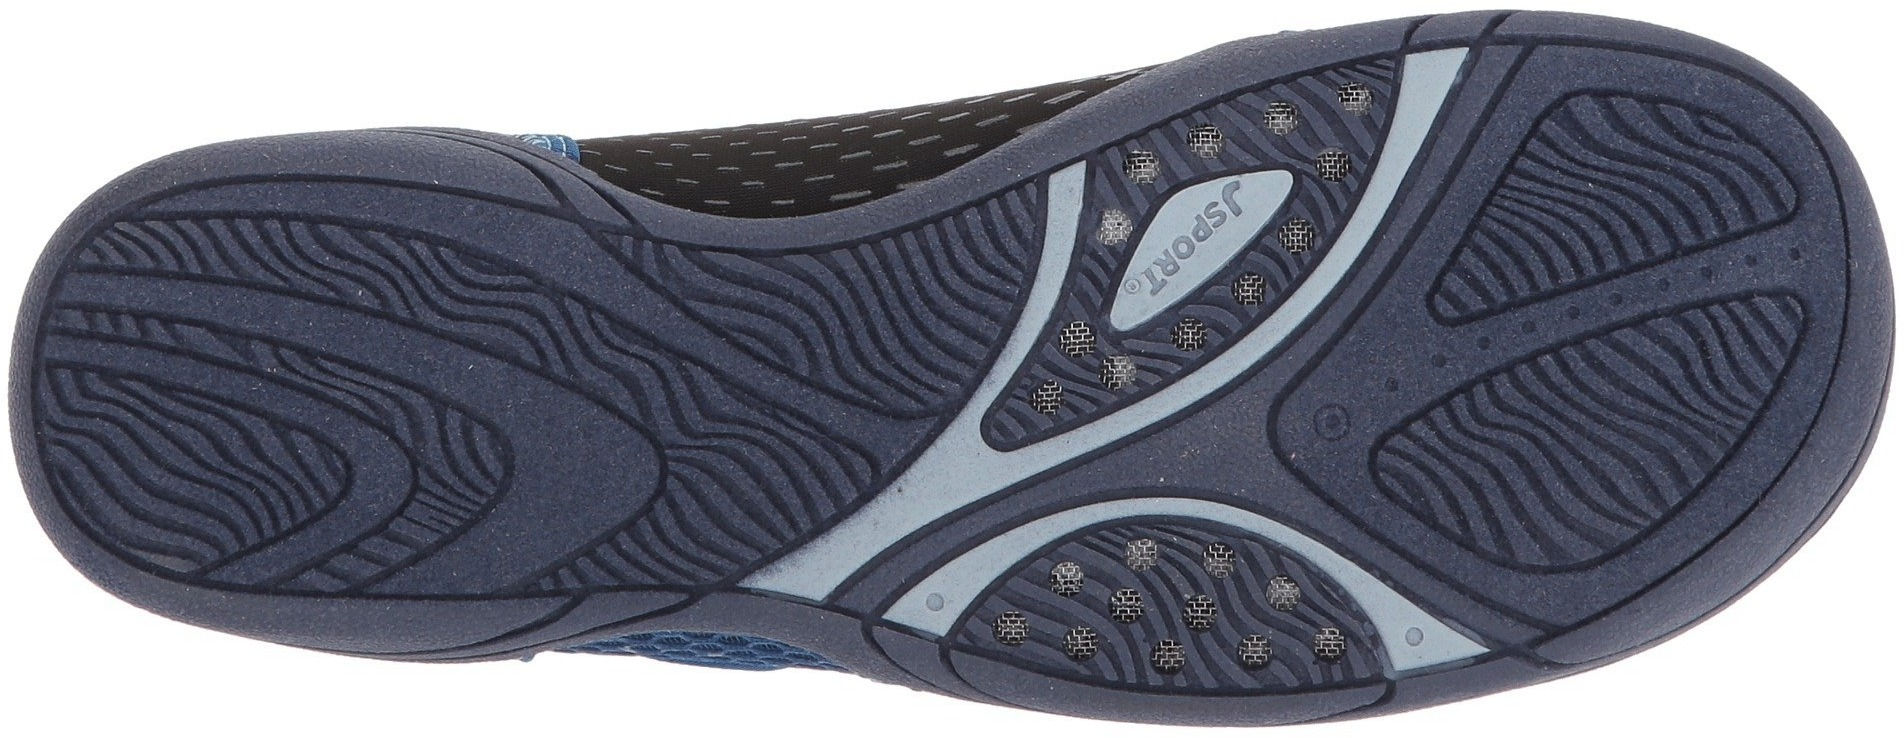text: (1151, 211, 1225, 284)
